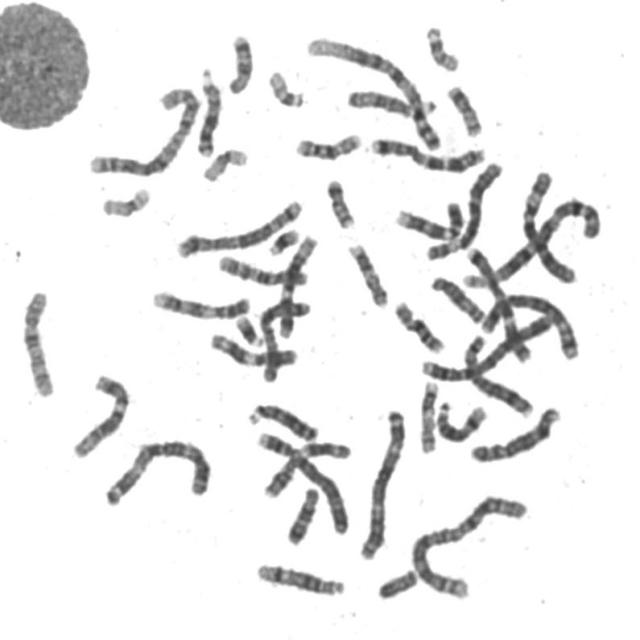A1: (301, 32, 444, 152), (459, 192, 604, 290)
A2: (405, 489, 531, 601), (83, 82, 203, 180)
A3: (355, 402, 409, 562), (99, 434, 214, 509)
B4: (253, 427, 352, 538), (415, 309, 555, 384)
B5: (172, 193, 305, 260), (477, 287, 582, 362)
C10: (16, 284, 57, 400), (214, 250, 312, 288)
C11: (259, 435, 353, 501), (206, 328, 300, 371)
C12: (68, 368, 132, 460), (273, 228, 321, 340)
C6: (420, 156, 505, 262), (517, 165, 579, 287)
C7: (459, 241, 534, 365), (365, 132, 488, 174)
C8: (459, 329, 536, 420), (465, 402, 563, 465)
C9: (147, 284, 254, 322), (391, 196, 466, 243)
D13: (244, 397, 320, 444), (192, 63, 224, 158)
D14: (251, 558, 347, 599), (432, 396, 488, 444)
D15: (342, 84, 441, 120), (427, 270, 488, 326)
E16: (389, 296, 446, 355), (290, 127, 364, 163)
E17: (343, 237, 390, 310), (416, 375, 440, 455)
E18: (282, 483, 322, 547), (222, 28, 255, 96)
F19: (198, 143, 250, 184), (97, 181, 153, 219)
F20: (442, 79, 485, 139), (322, 173, 358, 230)
G21: (231, 310, 266, 348), (264, 223, 302, 257)
G22: (421, 24, 465, 71), (263, 66, 308, 110)
X: (254, 295, 314, 384)
Y: (373, 564, 419, 602)
